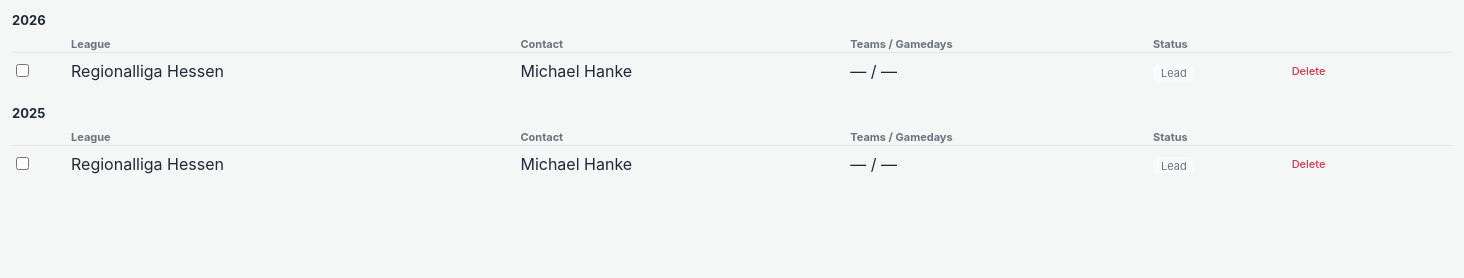
Test: TrackedLeagueList › shows a validation error instead of allowing submission when years differ
The width and height of the screenshot is (1464, 278).
What coordinates should you click on to do the following:
click the checkbox below "2026"
I would click on:
 (22, 70)
Its box is left=16, top=64, right=29, bottom=77.
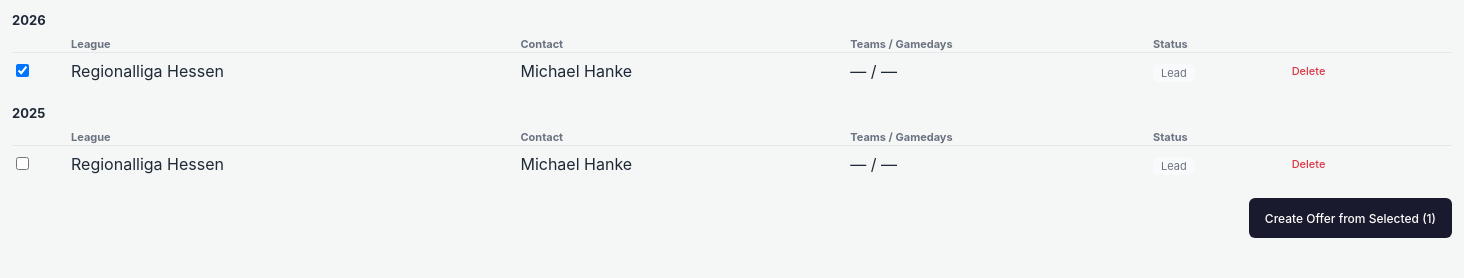
What coordinates should you click on to do the following:
click the checkbox below "2025"
I would click on:
 (22, 164)
Its box is left=16, top=157, right=29, bottom=170.
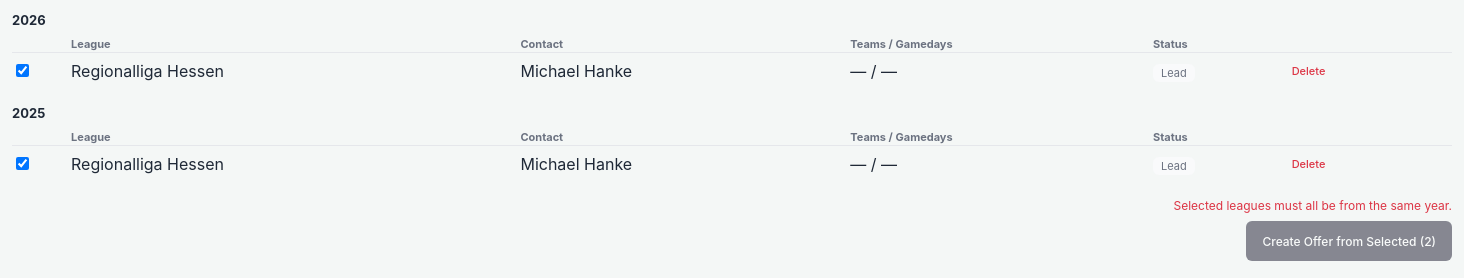
Expected: the text "Selected leagues must all be from the same year." is shown, left=1173, top=198, right=1452, bottom=213
Expected: the button "Create Offer from Selected (2)" is disabled, left=1246, top=221, right=1452, bottom=261
